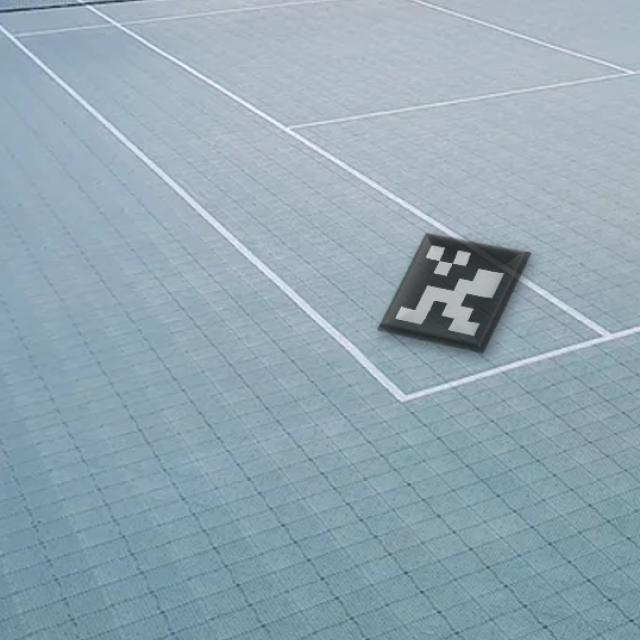marker: (369, 217, 540, 368)
